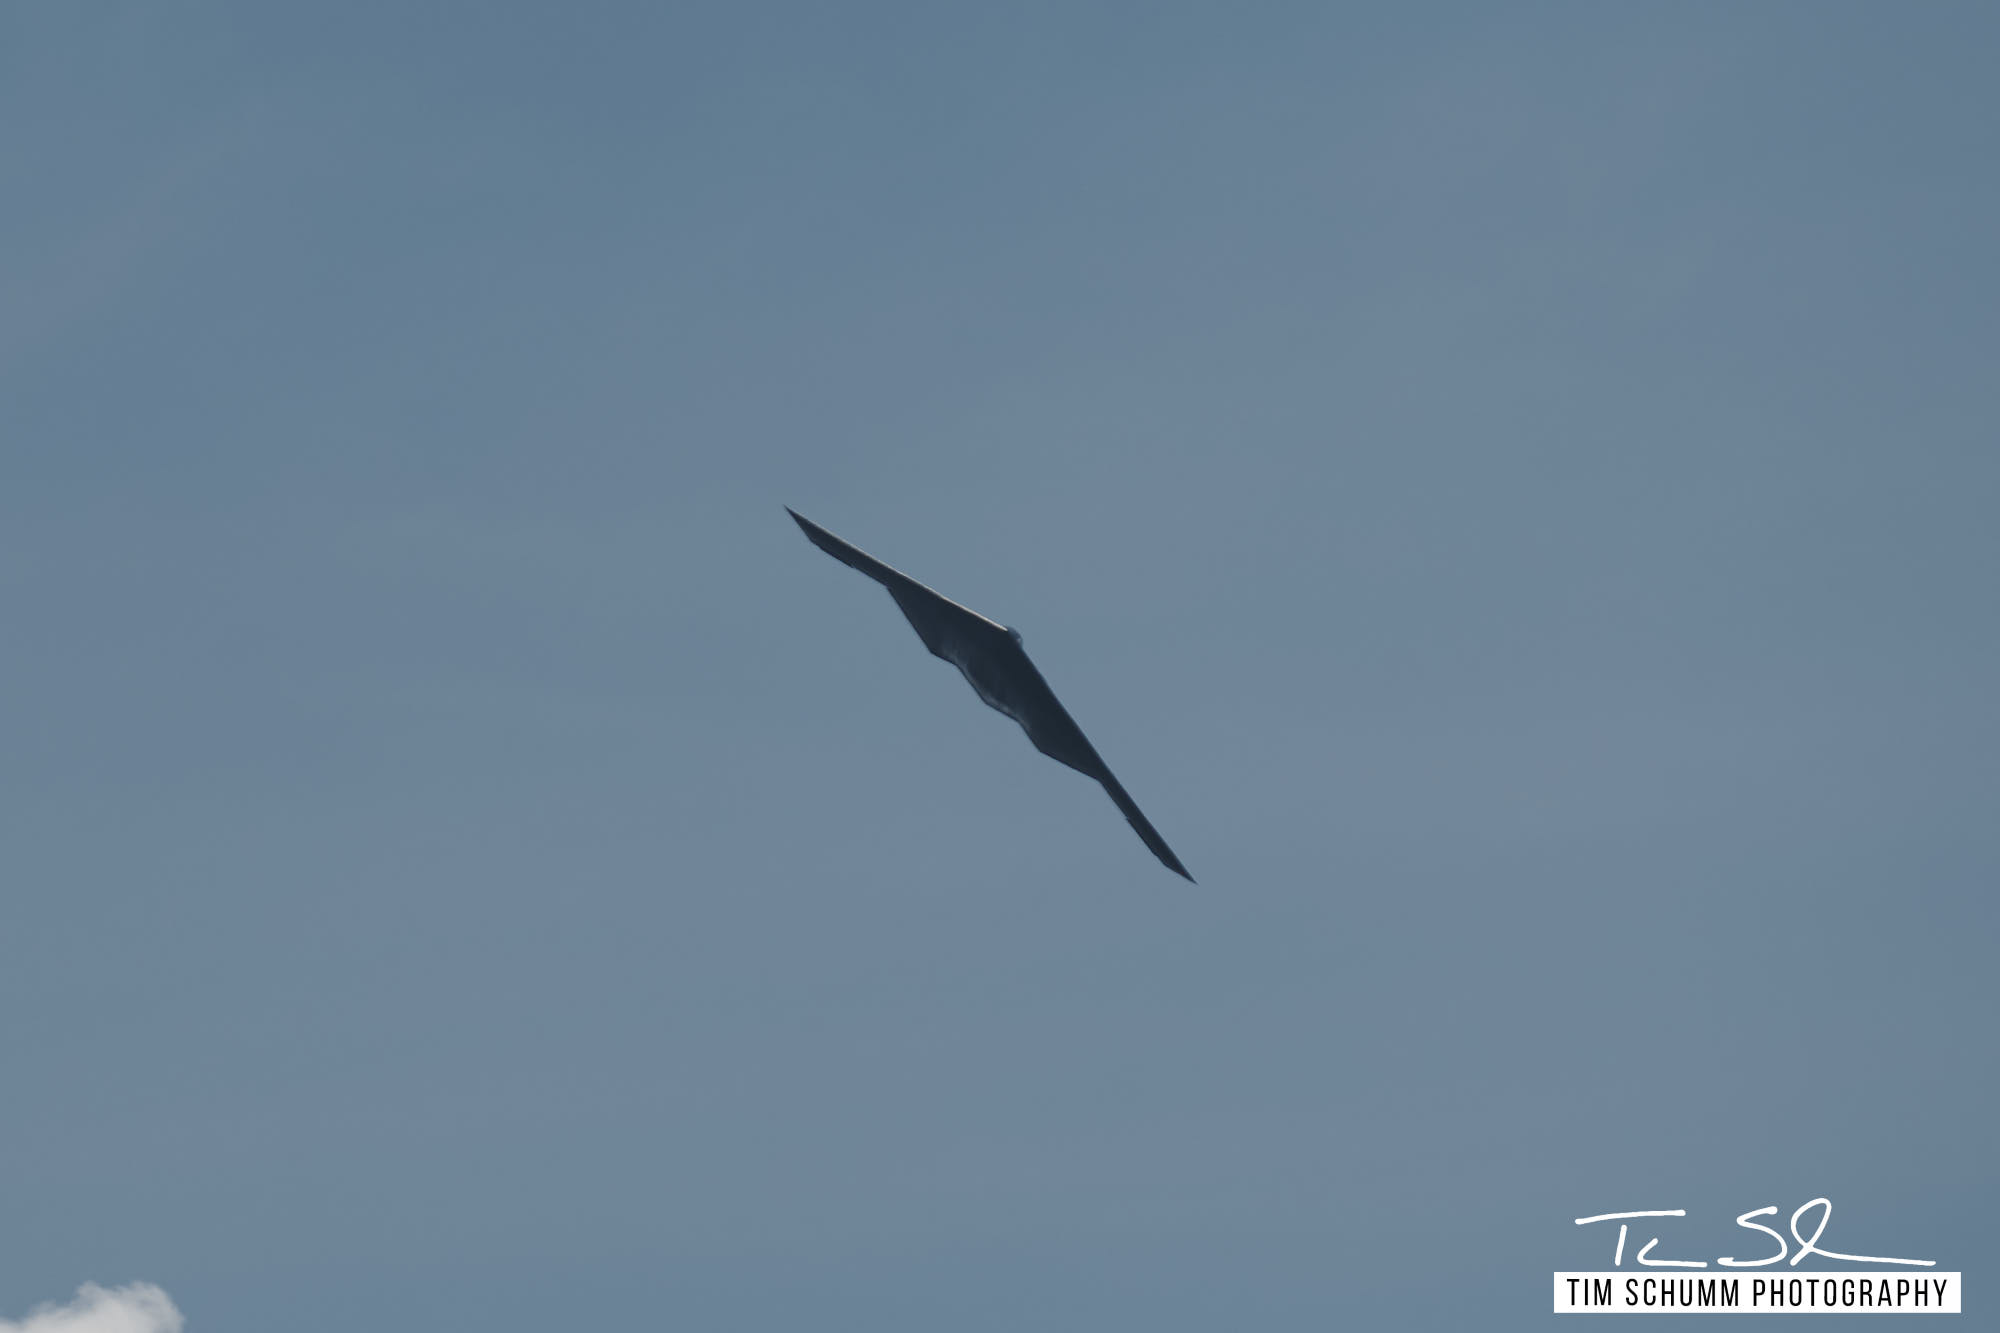B2: (784, 503, 1201, 888)
